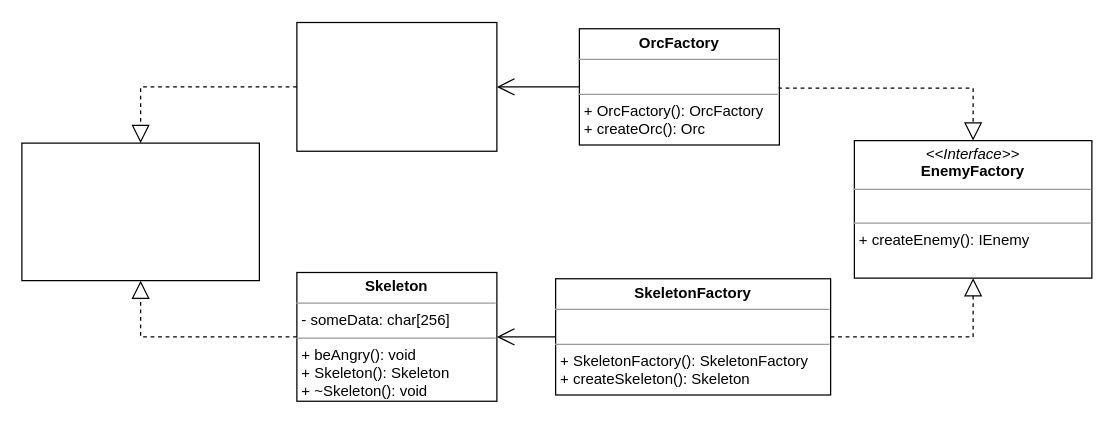
The diagram is 1114 pixels wide and 423 high, and some of its shapes have lost their labels. Each missing label, with the box of its shape:
<<Interface>> IEnemy + beAngry(): void: (21, 142, 259, 281)
Orc - someData: char[256] + beAngry(): void + Orc(): Orc + ~Orc(): void: (296, 21, 497, 151)
